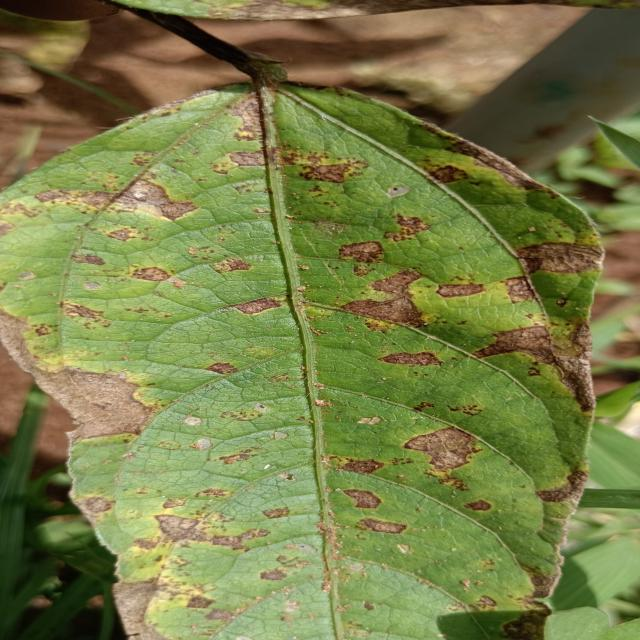Black gram_leaf spot: (0, 76, 612, 640)
